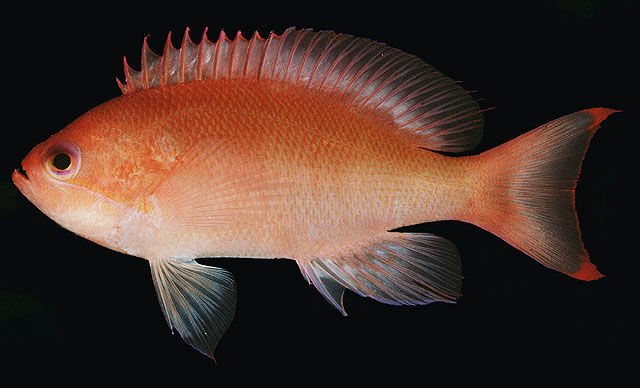fish: (11, 26, 623, 363)
